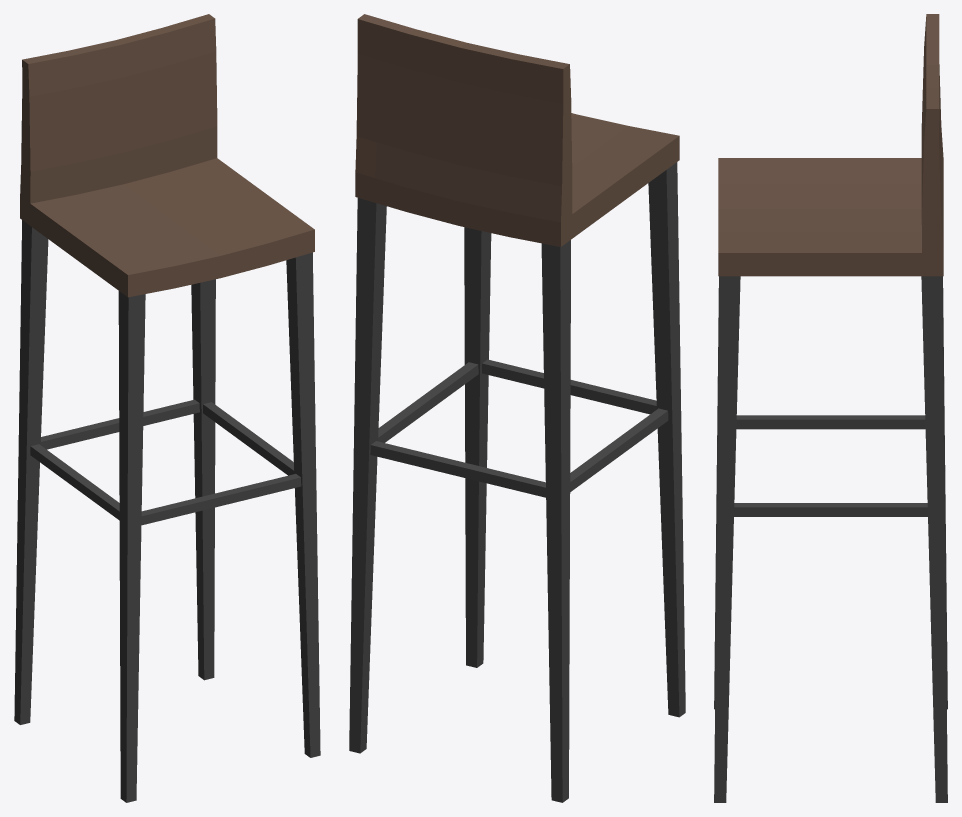
File: Chair_09_C3.fbx
The picture shows the model from 3 angles, left to right: view 1: azimuth 30°, elevation 25°; view 2: azimuth 150°, elevation 25°; view 3: azimuth 270°, elevation 25°; orthographic projection. The views are drawn at different scales.
Visible parts, largest first — view 1: Chair_09_C3; view 2: Chair_09_C3; view 3: Chair_09_C3.
Part boxes in pixels (left/top/right/bottom): Chair_09_C3: left=14, top=14, right=320, bottom=802; Chair_09_C3: left=349, top=14, right=685, bottom=802; Chair_09_C3: left=714, top=14, right=947, bottom=802.
Size of the model in its own units: 33.75 by 110 by 33.75.
